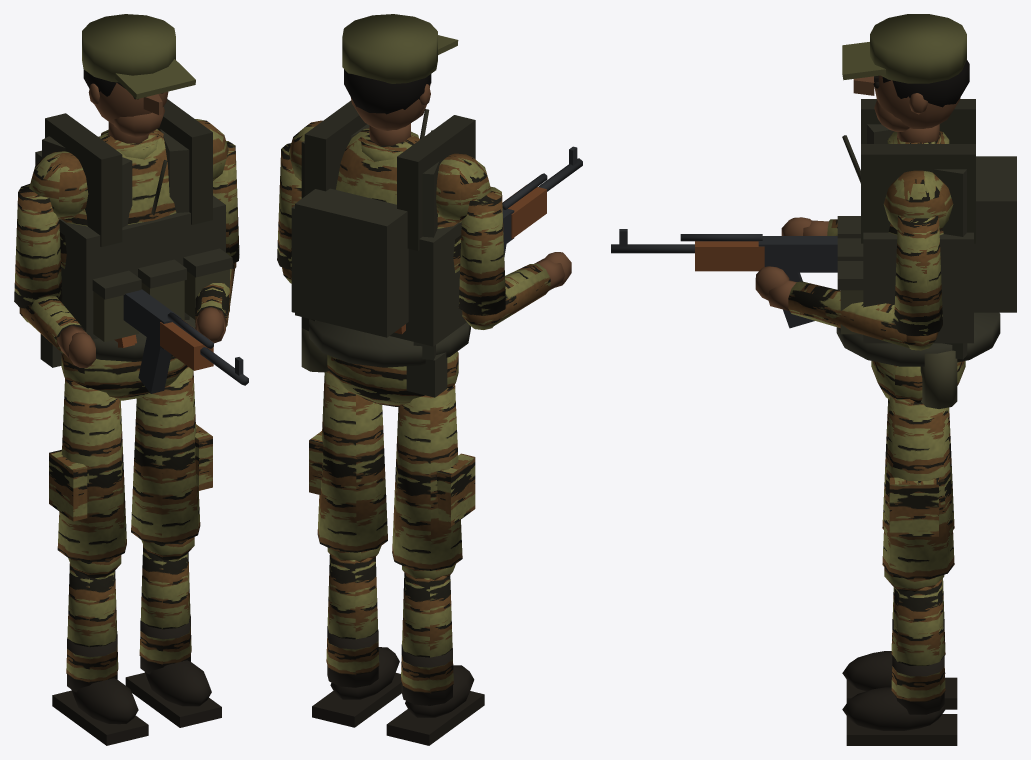
The model's file is soldier_ltte.glb.
The picture shows the model from 3 angles, left to right: view 1: azimuth 30°, elevation 25°; view 2: azimuth 150°, elevation 25°; view 3: azimuth 270°, elevation 25°; orthographic projection.
Parts seen in each view (by area): view 1: Torso, LegR, LegL, Head, ArmR, Rifle, Pelvis, ArmL; view 2: Torso, LegR, LegL, Head, Pelvis, ArmR, Rifle, ArmL; view 3: Torso, LegL, Head, ArmL, Rifle, Pelvis, LegR, ArmR.
Boxes of the visible parts, x1=… form: Torso: x1=29, y1=99, x2=232, y2=341; LegR: x1=49, y1=378, x2=148, y2=745; LegL: x1=125, y1=367, x2=221, y2=727; Head: x1=82, y1=14, x2=195, y2=136; ArmR: x1=14, y1=184, x2=95, y2=368; Rifle: x1=114, y1=289, x2=248, y2=393; Pelvis: x1=40, y1=316, x2=195, y2=400; ArmL: x1=195, y1=141, x2=239, y2=343; Torso: x1=288, y1=100, x2=491, y2=359; LegR: x1=386, y1=384, x2=484, y2=745; LegL: x1=309, y1=371, x2=401, y2=727; Head: x1=342, y1=14, x2=458, y2=130; Pelvis: x1=301, y1=319, x2=470, y2=406; ArmR: x1=458, y1=186, x2=571, y2=329; Rifle: x1=394, y1=146, x2=582, y2=334; ArmL: x1=277, y1=143, x2=301, y2=283; Torso: x1=837, y1=99, x2=1016, y2=359; LegL: x1=842, y1=397, x2=957, y2=745; Head: x1=842, y1=14, x2=969, y2=131; ArmL: x1=755, y1=215, x2=942, y2=350; Rifle: x1=611, y1=229, x2=837, y2=328; Pelvis: x1=836, y1=312, x2=1000, y2=408; LegR: x1=842, y1=399, x2=957, y2=709; ArmR: x1=781, y1=217, x2=837, y2=235.
Bounding box in the file's own units: 0.6448 × 1.84 × 0.99.
Materials: 11 (1 with a texture image).
